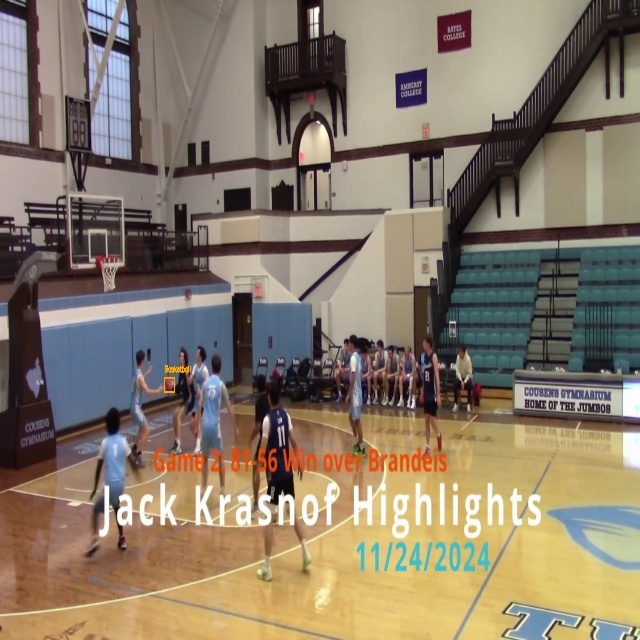Basketball: (164, 378, 175, 392)
